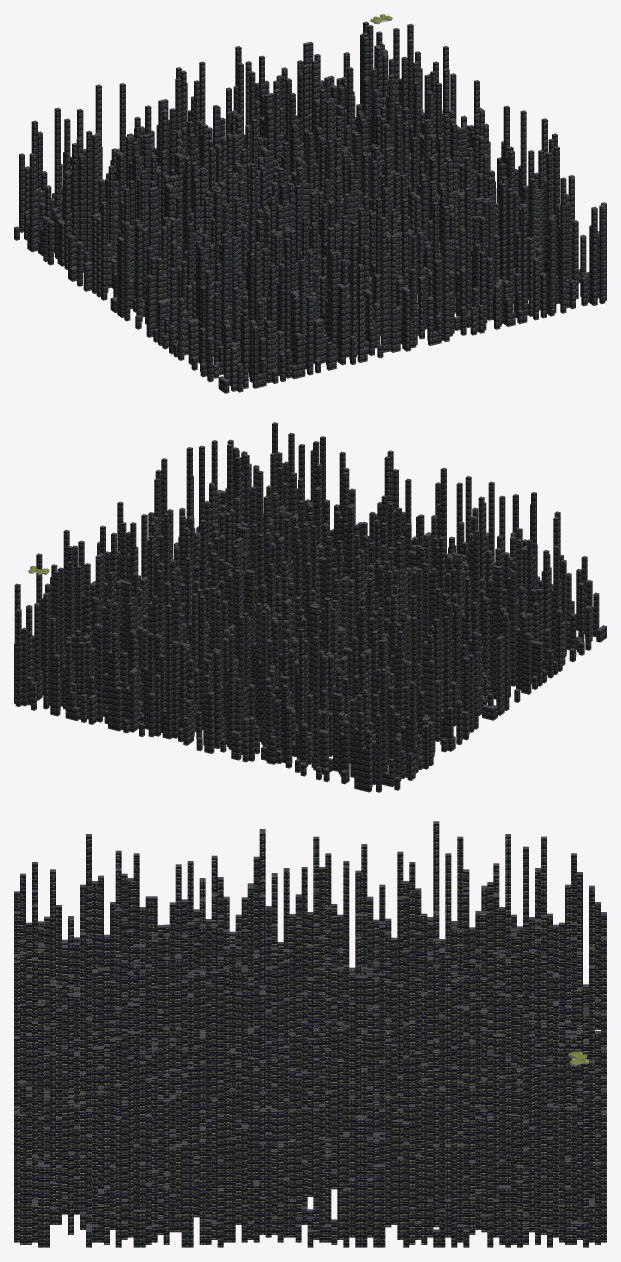
The model's file is city.fbx.
3 renders of one model, top to bottom at view 1: azimuth 30°, elevation 25°; view 2: azimuth 150°, elevation 25°; view 3: azimuth 270°, elevation 25°, orthographic. The views are drawn at different scales.
Visible parts, largest first — view 1: Grid; view 2: Grid; view 3: Grid.
Boxes of the visible parts, x1=… form: Grid: x1=14, y1=21, x2=606, y2=393; Grid: x1=14, y1=422, x2=606, y2=792; Grid: x1=14, y1=821, x2=606, y2=1247.
Size of the model in its own units: 36301 by 12152 by 36301.
